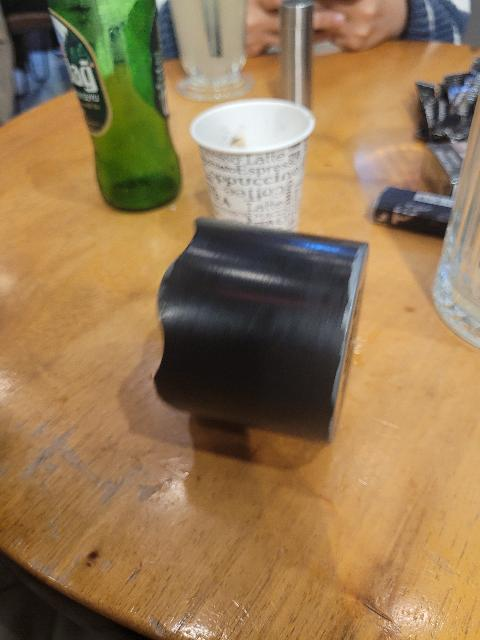Cam: (46, 0, 184, 213)
Kagit: (192, 102, 314, 221)
Metal: (156, 221, 368, 432), (281, 0, 315, 112)
